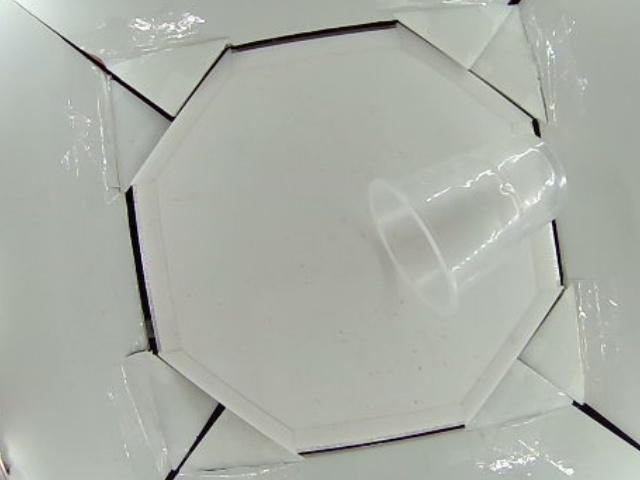Cup: (366, 131, 569, 310)
